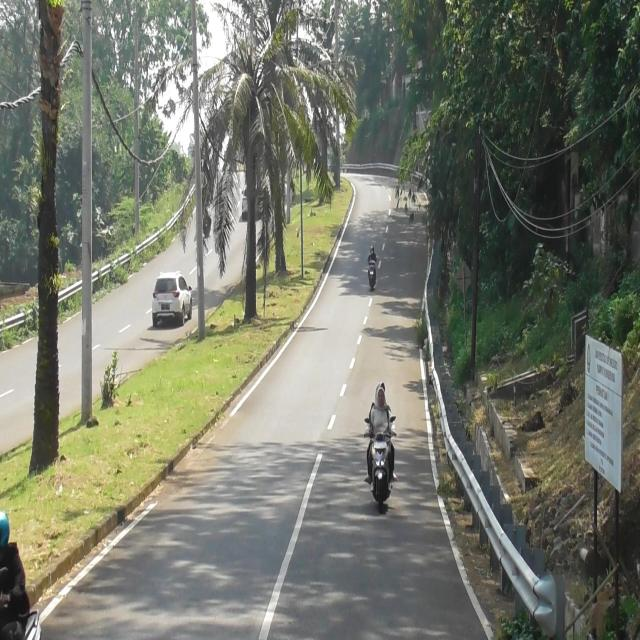motorcycle: (364, 415, 398, 504), (368, 258, 376, 290)
person: (368, 390, 394, 444), (369, 382, 392, 416), (368, 246, 378, 262)
rider_region: (365, 382, 398, 512), (366, 247, 380, 290)
